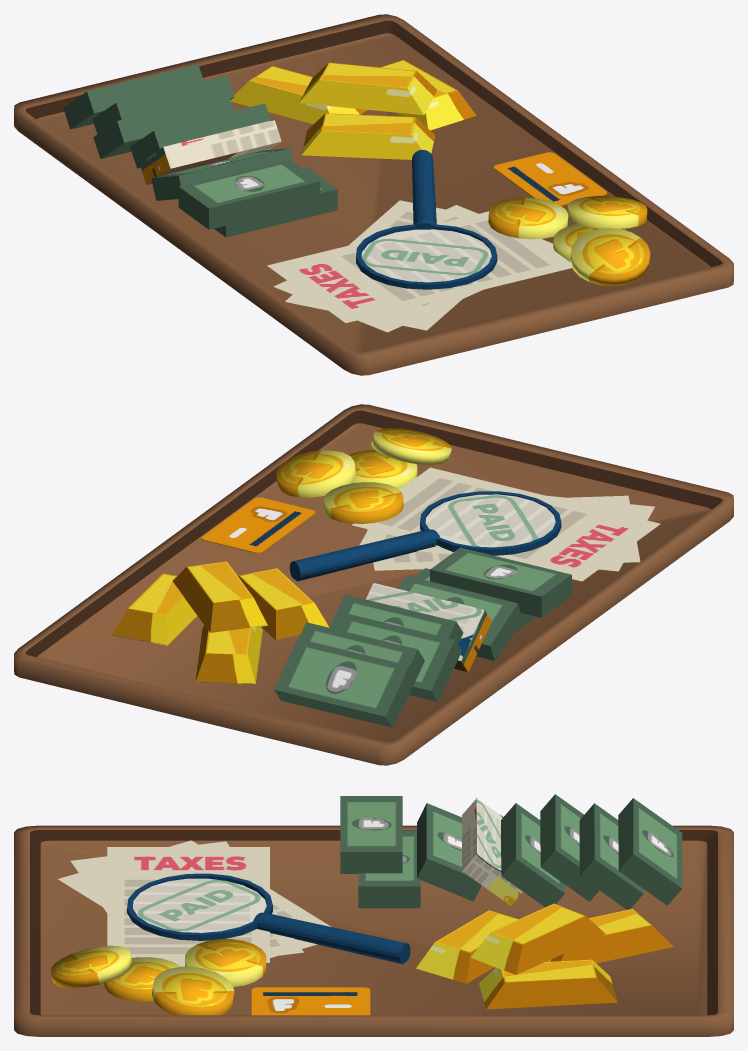
The model's file is tax.fbx.
The picture shows the model from 3 angles, top to bottom: view 1: azimuth 30°, elevation 25°; view 2: azimuth 150°, elevation 25°; view 3: azimuth 270°, elevation 25°; orthographic projection. The views are drawn at different scales.
Visible parts, largest first — view 1: tax; view 2: tax; view 3: tax.
Boxes of the visible parts, box(x1,y1,x2,y2) form: tax: box(14, 14, 733, 375); tax: box(14, 404, 733, 765); tax: box(14, 794, 733, 1036).
Size of the model in its own units: 177 by 25.95 by 277.
